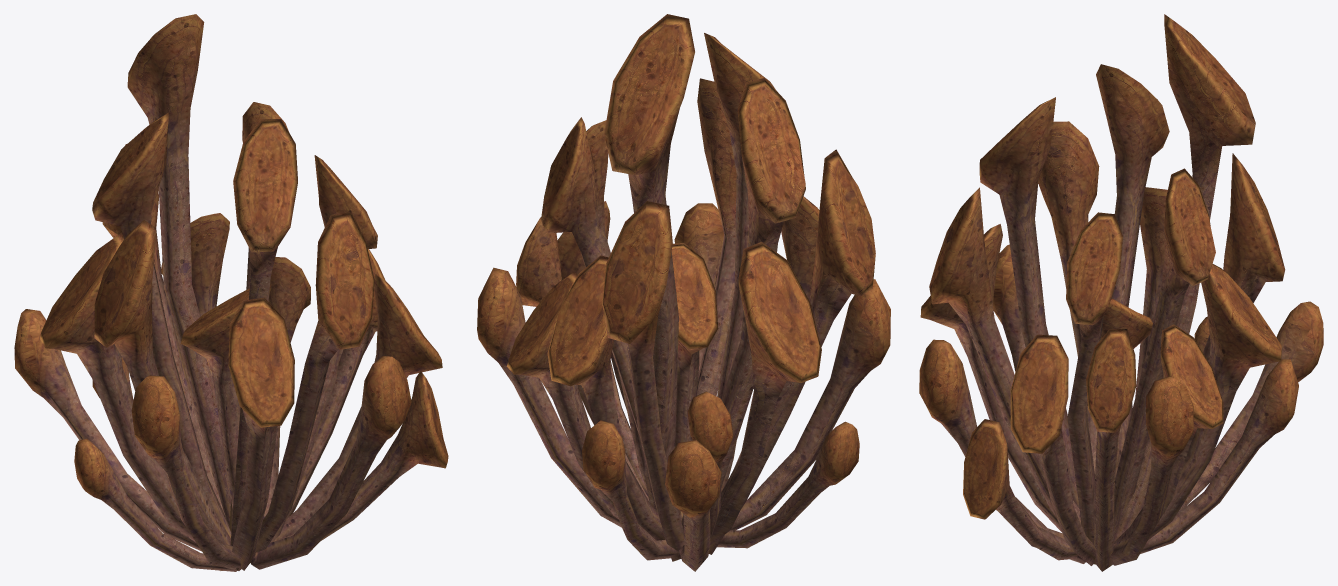
The model's file is Shroom_Plant2_1_L1.fbx.
3 renders of one model, left to right at view 1: azimuth 30°, elevation 25°; view 2: azimuth 150°, elevation 25°; view 3: azimuth 270°, elevation 25°, orthographic. The views are drawn at different scales.
Visible parts, largest first — view 1: polySurface283; view 2: polySurface283; view 3: polySurface283.
Boxes of the visible parts, x1,y1,x2,y2 form: polySurface283: (14, 14, 448, 571); polySurface283: (477, 14, 890, 571); polySurface283: (919, 14, 1323, 571).
Bounding box in the file's own units: 85.66 × 133 × 92.39.
